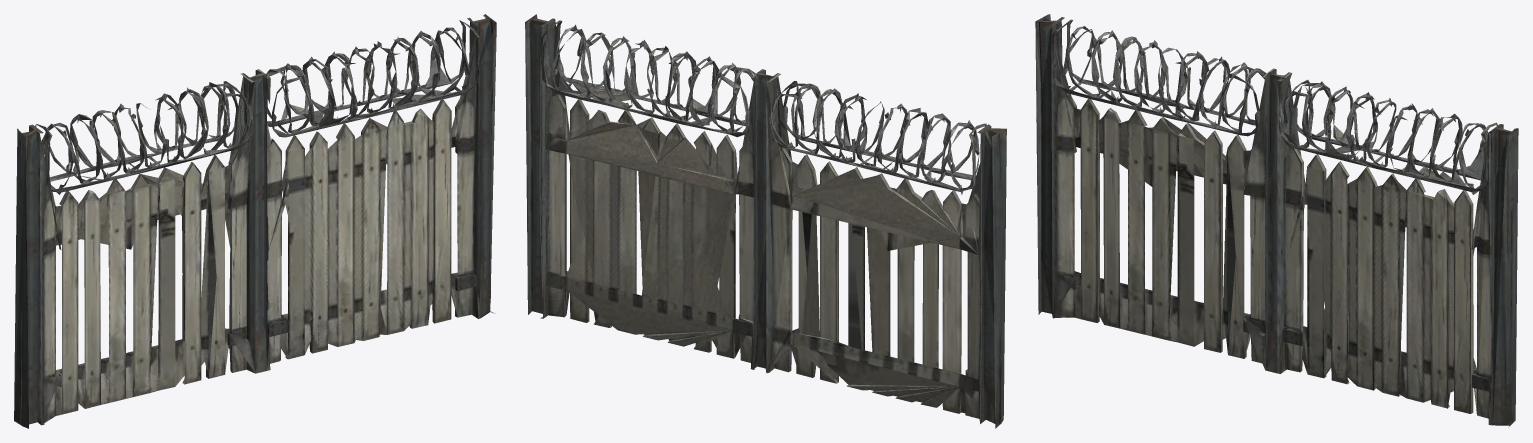
Rendered from substation_fence.glb.
3 renders of one model, left to right at view 1: azimuth 30°, elevation 25°; view 2: azimuth 150°, elevation 25°; view 3: azimuth 330°, elevation 25°, orthographic.
Size of the model in its own units: 1.9 by 1.13 by 0.2171.
Materials: 1 (1 with a texture image).
